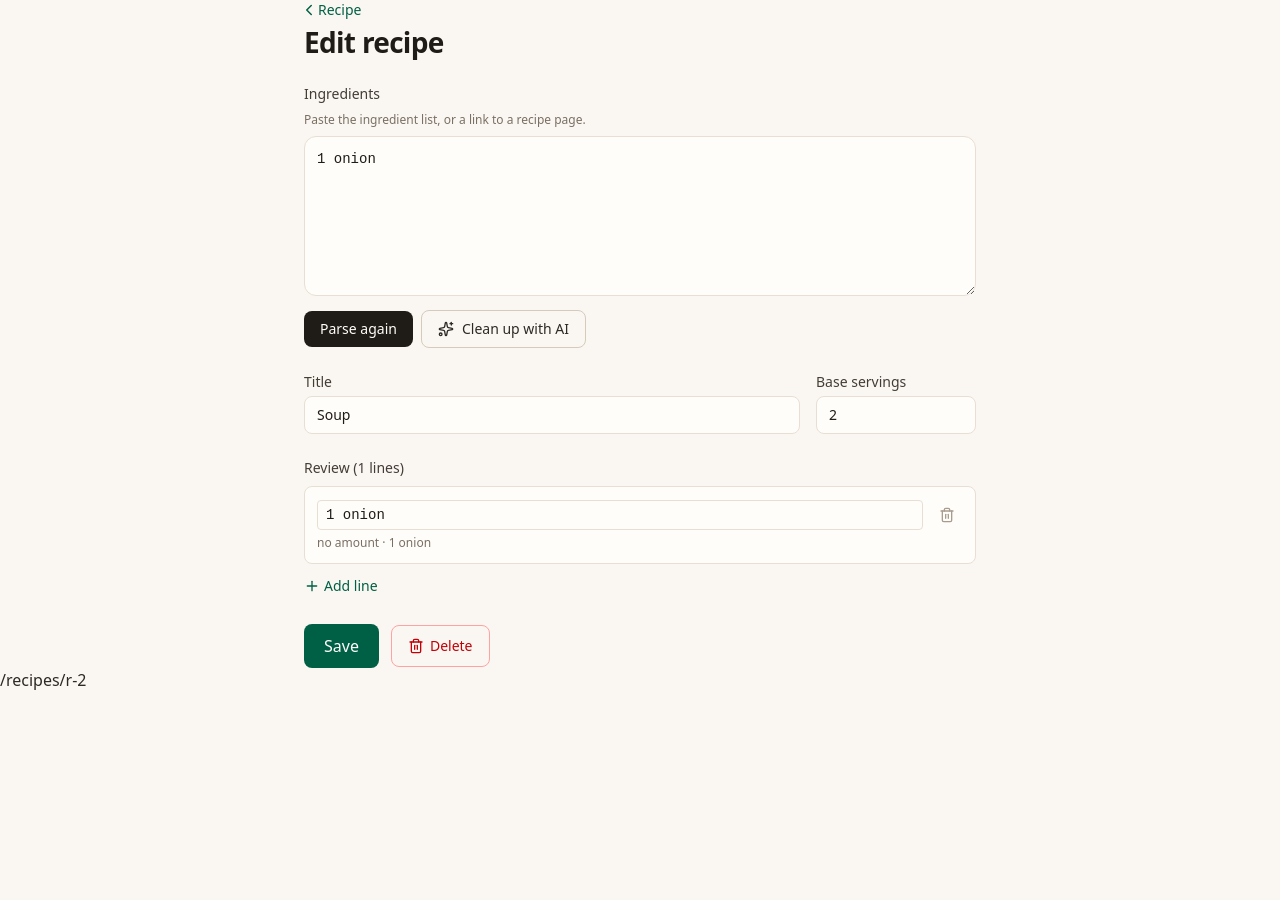
Scenario: RecipeEditorScreen › shows an inline error when delete fails and stays on the page
Expected: the field showing "Soup" is shown, [304,396,800,434]
Step 1. Click the button "Delete" → [440, 646], box [391,625,490,667]
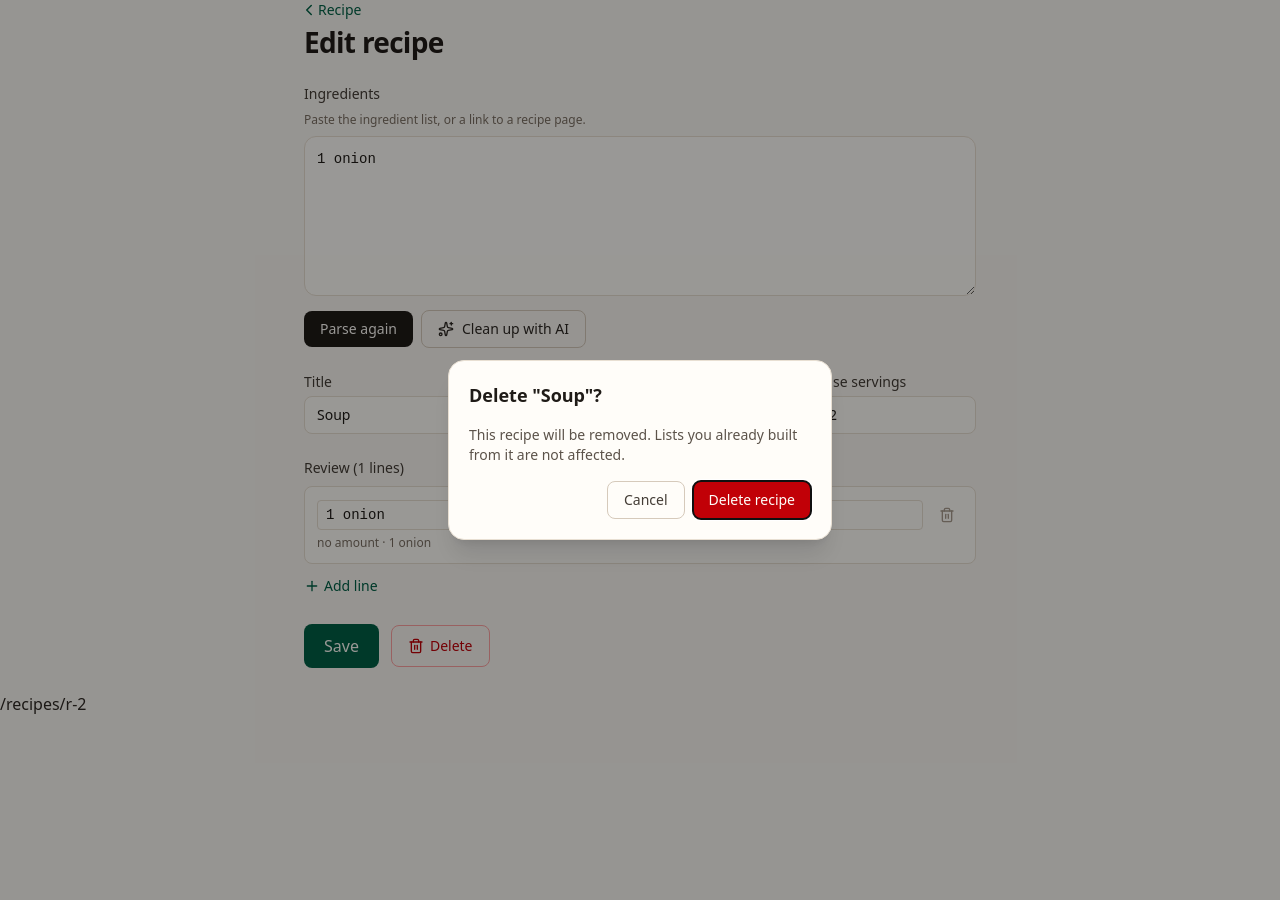
Step 2. Click the button "Delete recipe" → [752, 500], box [692,481,811,519]
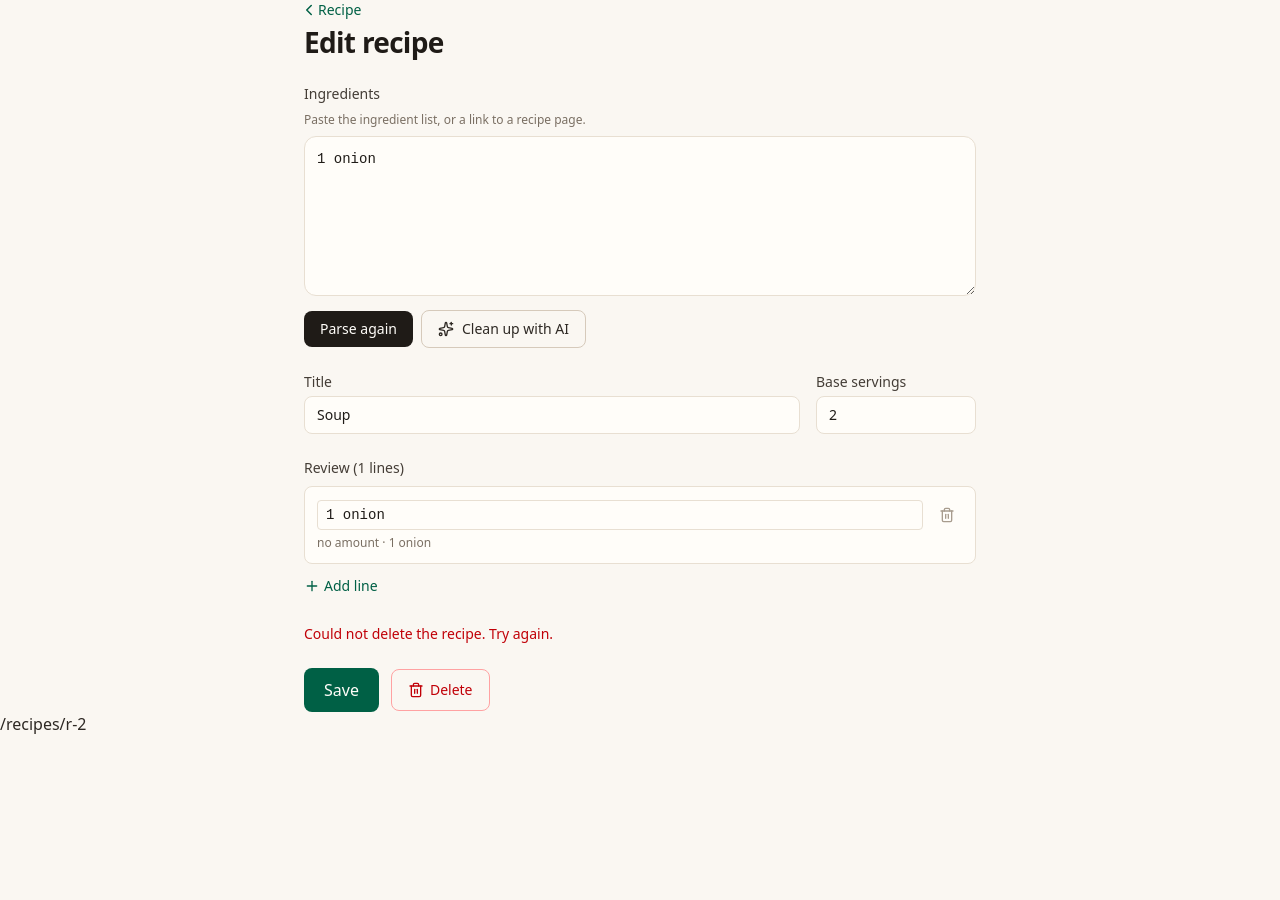
Result: the message reads "Could not delete the recipe. Try again." at [304,624,553,643]
